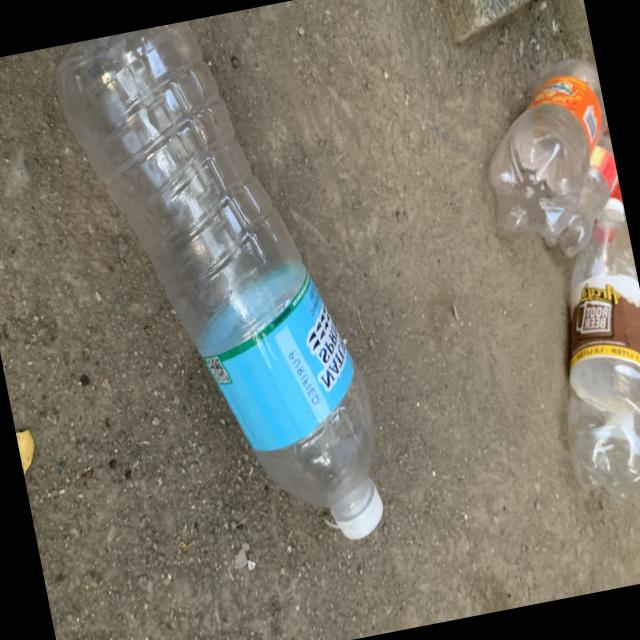Bottle: (58, 20, 383, 538)
